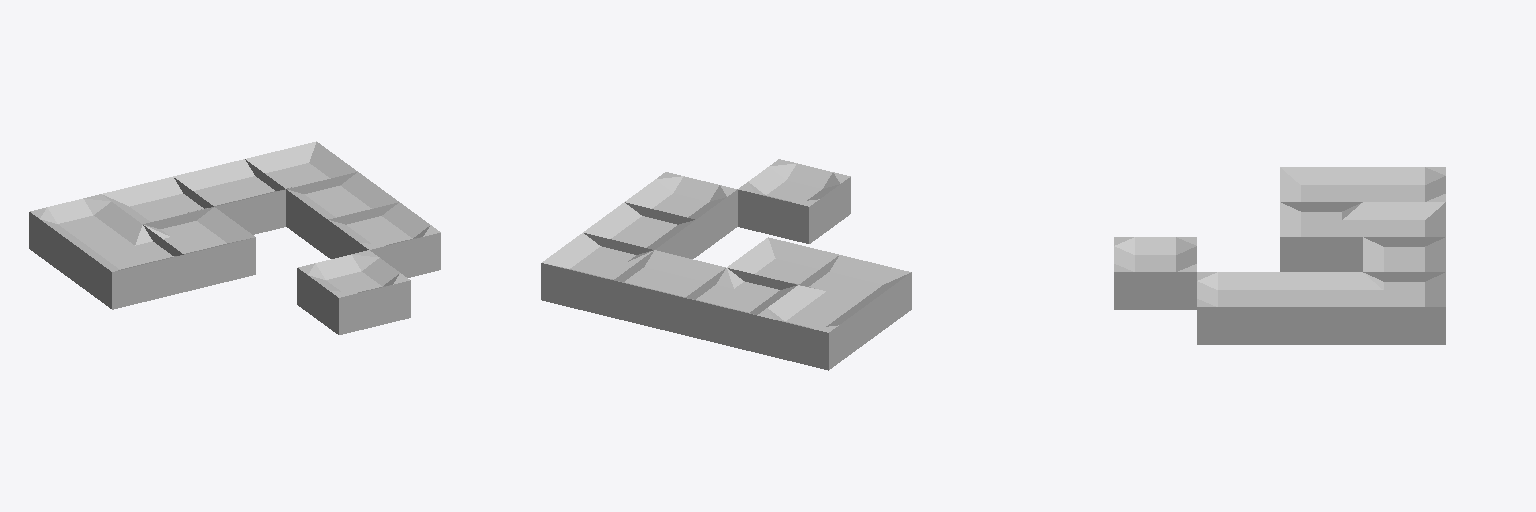
The model's file is 59f_path.obj.
3 views of the same model, side by side, from view 1: azimuth 30°, elevation 25°; view 2: azimuth 150°, elevation 25°; view 3: azimuth 270°, elevation 25° (orthographic).
Visible parts, largest first — view 1: foil.hole.2.1_Cube.269, foil.corner.0.3_corner.1322, foil.corner.1.3_corner.1323, foil.ending.3.2_ending.536, foil.through.2.4_through.282, foil.ending.0.4_ending.535, foil.through.3.3_through.283, foil.corner.3.4_corner.1325, foil.corner.1.4_corner.1324; view 2: foil.hole.2.1_Cube.269, foil.ending.0.4_ending.535, foil.through.2.4_through.282, foil.corner.3.4_corner.1325, foil.corner.1.4_corner.1324, foil.corner.0.3_corner.1322, foil.ending.3.2_ending.536, foil.through.3.3_through.283, foil.corner.1.3_corner.1323; view 3: foil.hole.2.1_Cube.269, foil.ending.3.2_ending.536, foil.through.3.3_through.283, foil.corner.3.4_corner.1325, foil.corner.1.3_corner.1323, foil.corner.0.3_corner.1322, foil.through.2.4_through.282, foil.ending.0.4_ending.535, foil.corner.1.4_corner.1324.
Boxes of the visible parts, x1=… form: foil.hole.2.1_Cube.269: x1=297, y1=250, x2=410, y2=334; foil.corner.0.3_corner.1322: x1=71, y1=225, x2=183, y2=309; foil.corner.1.3_corner.1323: x1=143, y1=207, x2=255, y2=291; foil.ending.3.2_ending.536: x1=328, y1=202, x2=440, y2=277; foil.through.2.4_through.282: x1=173, y1=159, x2=285, y2=234; foil.ending.0.4_ending.535: x1=29, y1=194, x2=142, y2=278; foil.through.3.3_through.283: x1=286, y1=172, x2=398, y2=256; foil.corner.3.4_corner.1325: x1=245, y1=141, x2=357, y2=188; foil.corner.1.4_corner.1324: x1=102, y1=177, x2=211, y2=228; foil.hole.2.1_Cube.269: x1=738, y1=159, x2=850, y2=243; foil.ending.0.4_ending.535: x1=757, y1=285, x2=869, y2=370; foil.through.2.4_through.282: x1=613, y1=250, x2=725, y2=334; foil.corner.3.4_corner.1325: x1=541, y1=233, x2=653, y2=317; foil.corner.1.4_corner.1324: x1=685, y1=268, x2=797, y2=352; foil.corner.0.3_corner.1322: x1=799, y1=255, x2=911, y2=339; foil.ending.3.2_ending.536: x1=625, y1=172, x2=737, y2=256; foil.through.3.3_through.283: x1=583, y1=202, x2=695, y2=258; foil.corner.1.3_corner.1323: x1=727, y1=237, x2=838, y2=289; foil.hole.2.1_Cube.269: x1=1114, y1=237, x2=1196, y2=309; foil.ending.3.2_ending.536: x1=1197, y1=272, x2=1279, y2=344; foil.through.3.3_through.283: x1=1280, y1=272, x2=1362, y2=344; foil.corner.3.4_corner.1325: x1=1363, y1=272, x2=1445, y2=344; foil.corner.1.3_corner.1323: x1=1280, y1=202, x2=1362, y2=271; foil.corner.0.3_corner.1322: x1=1280, y1=167, x2=1362, y2=211; foil.through.2.4_through.282: x1=1363, y1=237, x2=1445, y2=281; foil.ending.0.4_ending.535: x1=1363, y1=167, x2=1445, y2=201; foil.corner.1.4_corner.1324: x1=1363, y1=202, x2=1445, y2=236.
Size of the model in its own units: 8 by 1 by 8.